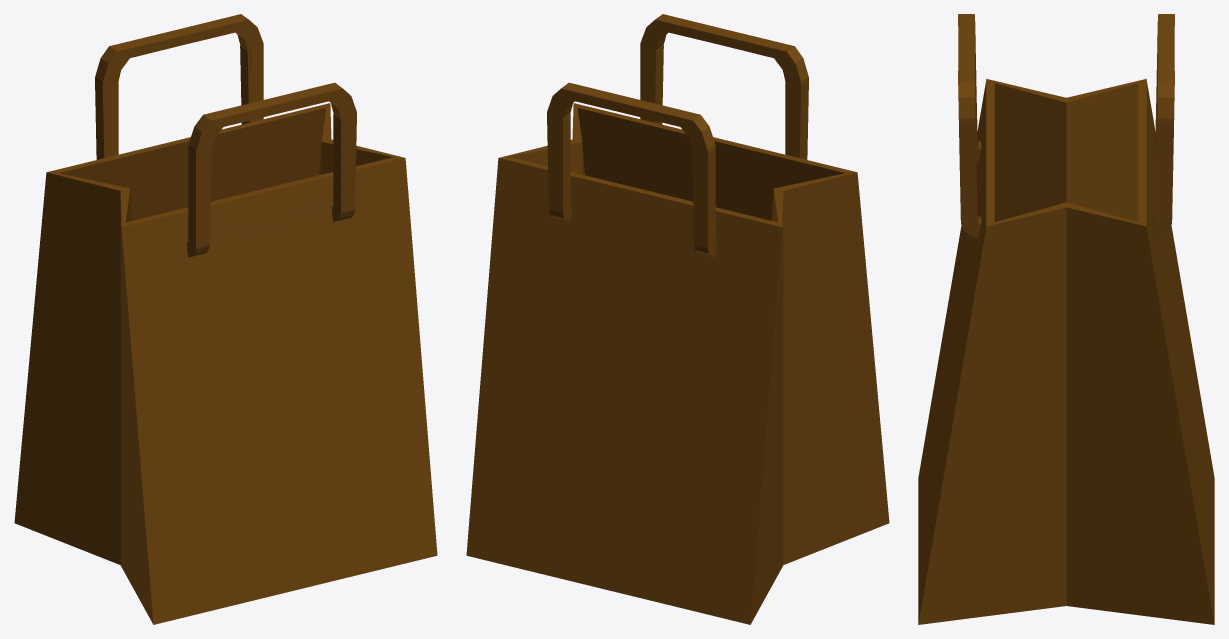
Rendered from totebag.fbx.
3 renders of one model, left to right at view 1: azimuth 30°, elevation 25°; view 2: azimuth 150°, elevation 25°; view 3: azimuth 270°, elevation 25°, orthographic. The views are drawn at different scales.
Parts seen in each view (by area): view 1: Cube; view 2: Cube; view 3: Cube.
Boxes of the visible parts, bbox=[...] form: Cube: bbox=[14, 14, 437, 624]; Cube: bbox=[466, 14, 889, 624]; Cube: bbox=[918, 14, 1214, 624].
Size of the model in its own units: 216 by 343 by 183.
